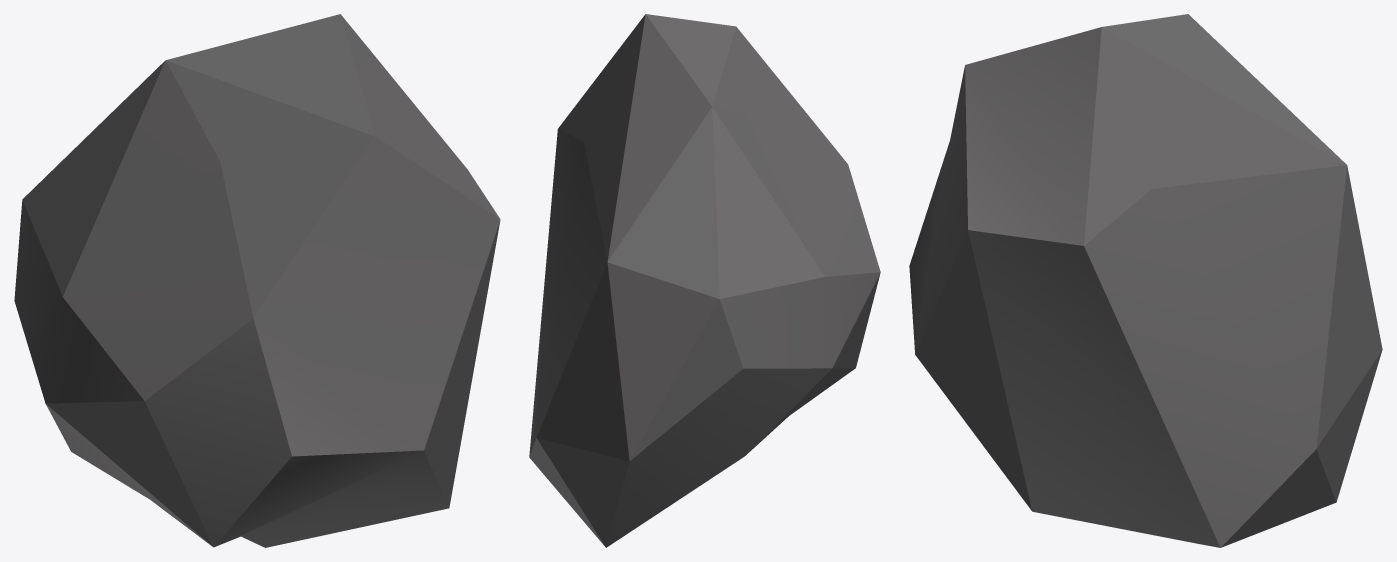
File: RockJ.fbx
The picture shows the model from 3 angles, left to right: view 1: azimuth 30°, elevation 25°; view 2: azimuth 150°, elevation 25°; view 3: azimuth 270°, elevation 25°; orthographic projection. The views are drawn at different scales.
Visible parts, largest first — view 1: RockJ; view 2: RockJ; view 3: RockJ.
Boxes of the visible parts, box(x1,y1,x2,y2) form: RockJ: box(14, 14, 500, 547); RockJ: box(529, 14, 880, 547); RockJ: box(909, 14, 1382, 547).
Bounding box in the file's own units: 49.6 × 70.46 × 57.27.
